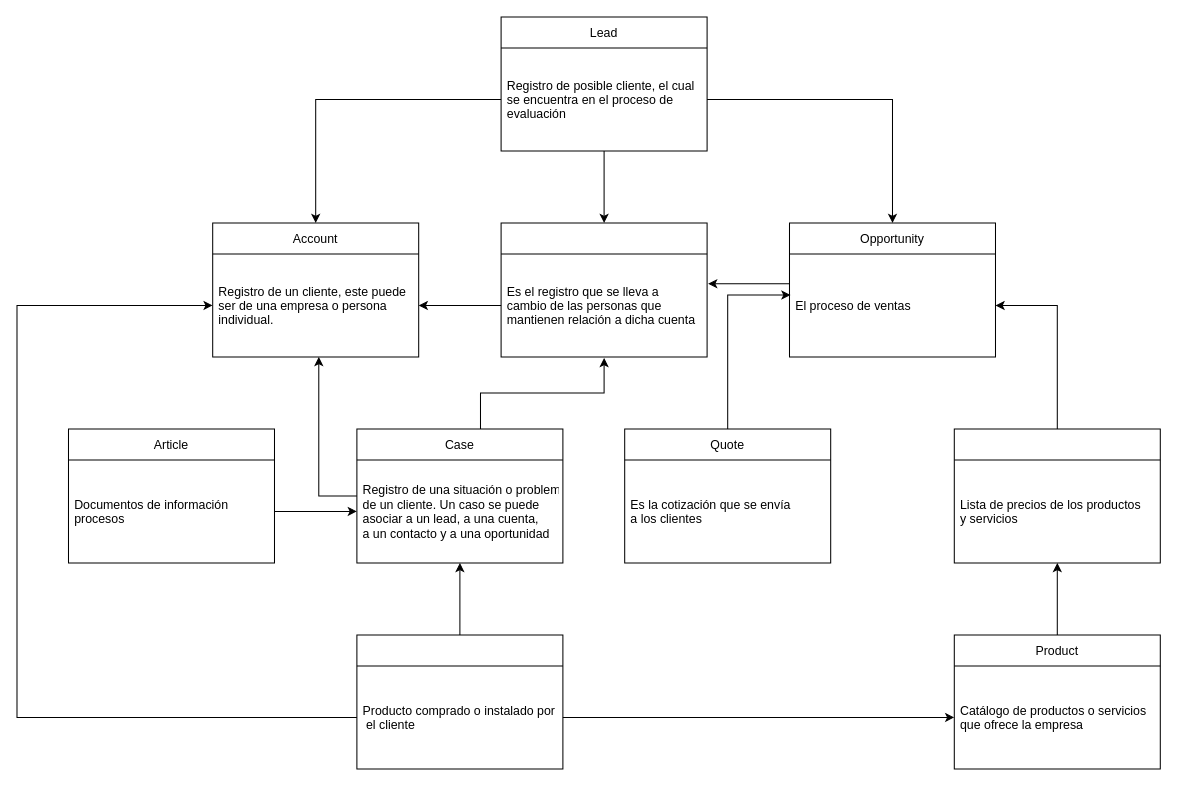
The diagram is 1177 pixels wide and 786 high, and some of its shapes have lost their labels. Each missing label, with the box of its shape:
Asset: (356, 634, 563, 769)
Contact: (500, 222, 707, 357)
Pricebook: (953, 428, 1160, 563)
